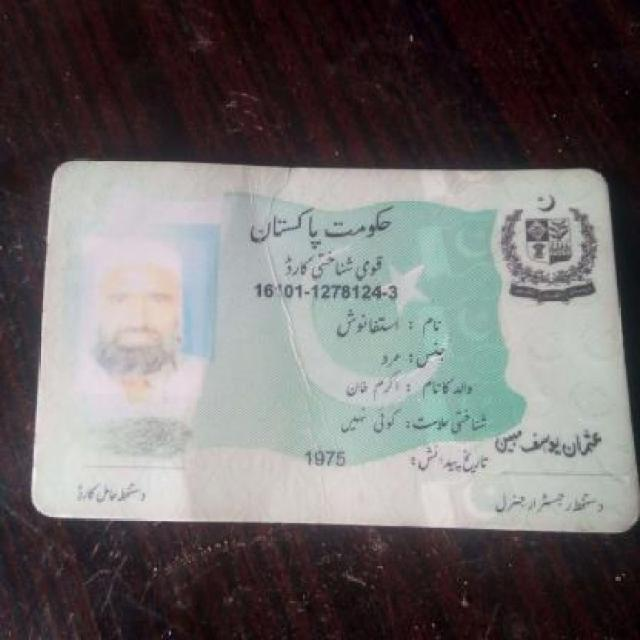Front: (28, 145, 629, 549)
